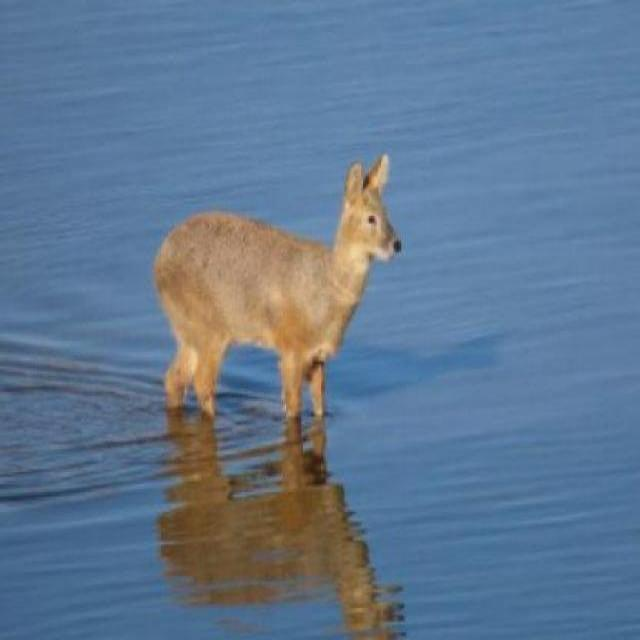deer: (153, 137, 407, 443)
